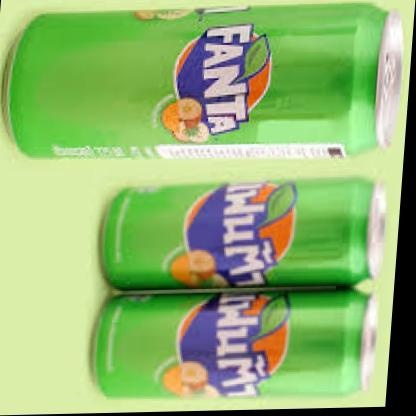trash: (0, 0, 413, 413), (6, 3, 386, 157), (102, 178, 372, 288), (119, 272, 364, 393), (96, 289, 367, 397)
